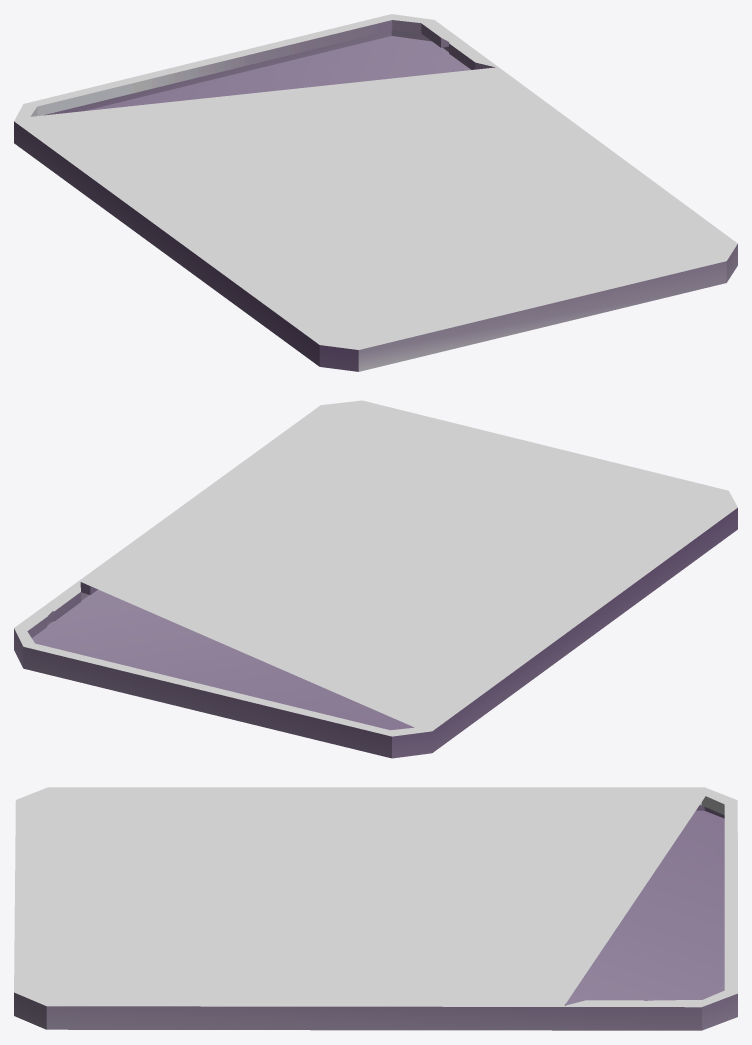
3 views of the same model, one above another, from view 1: azimuth 30°, elevation 25°; view 2: azimuth 150°, elevation 25°; view 3: azimuth 270°, elevation 25° (orthographic). The views are drawn at different scales.
Parts seen in each view (by area): view 1: Würfel; view 2: Würfel; view 3: Würfel.
Boxes of the visible parts, <box> form: Würfel: <box>14,14,737,371</box>; Würfel: <box>14,400,737,758</box>; Würfel: <box>14,787,737,1030</box>.
Bounding box in the file's own units: 1196 × 59.66 × 1665.
